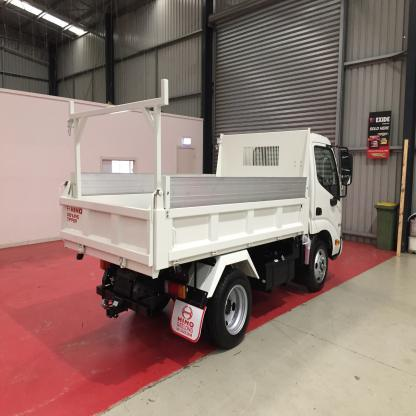dump_truck: (53, 84, 344, 350)
